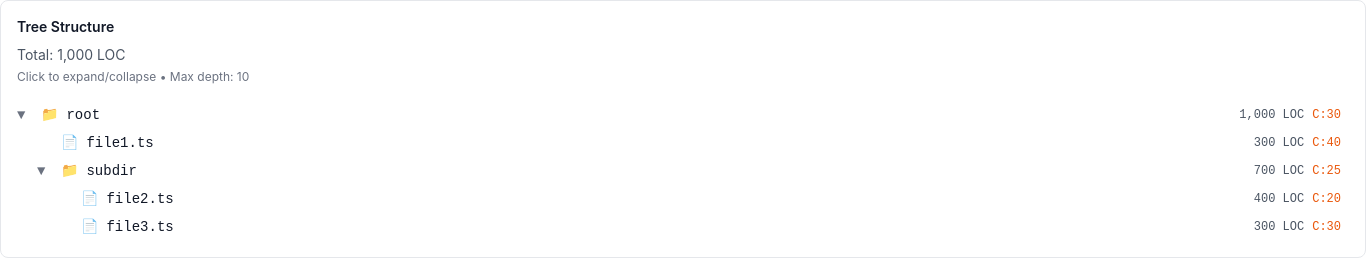
TreeView › nested children › hides nested children when parent is collapsed
The width and height of the screenshot is (1366, 275).
# Find and click subdir to collapse it
Click the text "subdir". click: (112, 171)
box: 86,163 -> 137,179
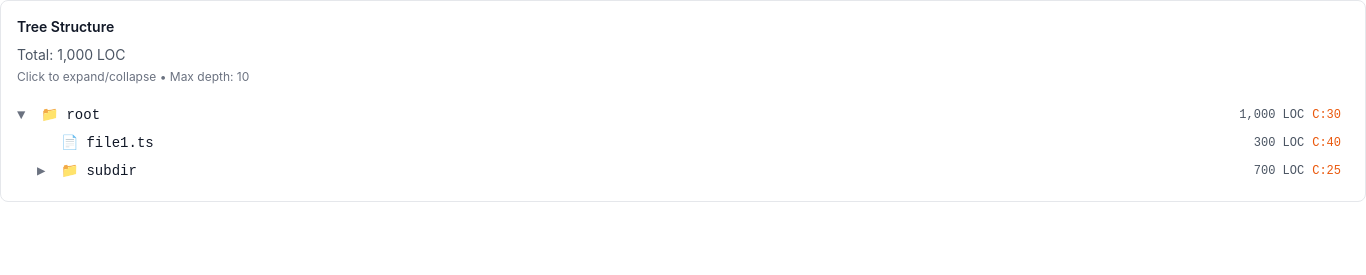
Check: the text "file2.ts" is gone
Check: the text "file3.ts" is gone
